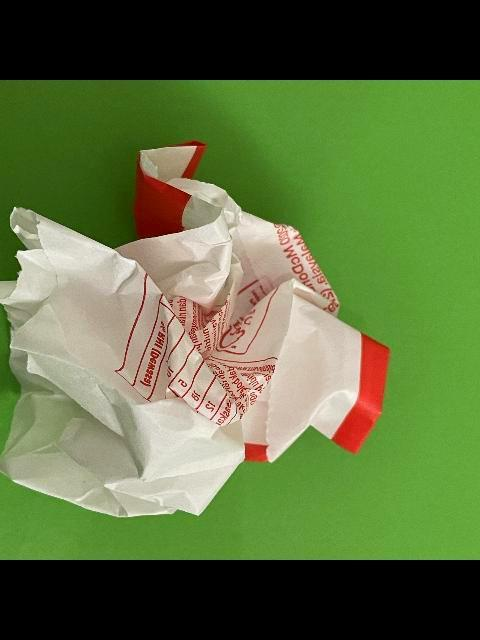paperbag: (0, 141, 389, 518)
